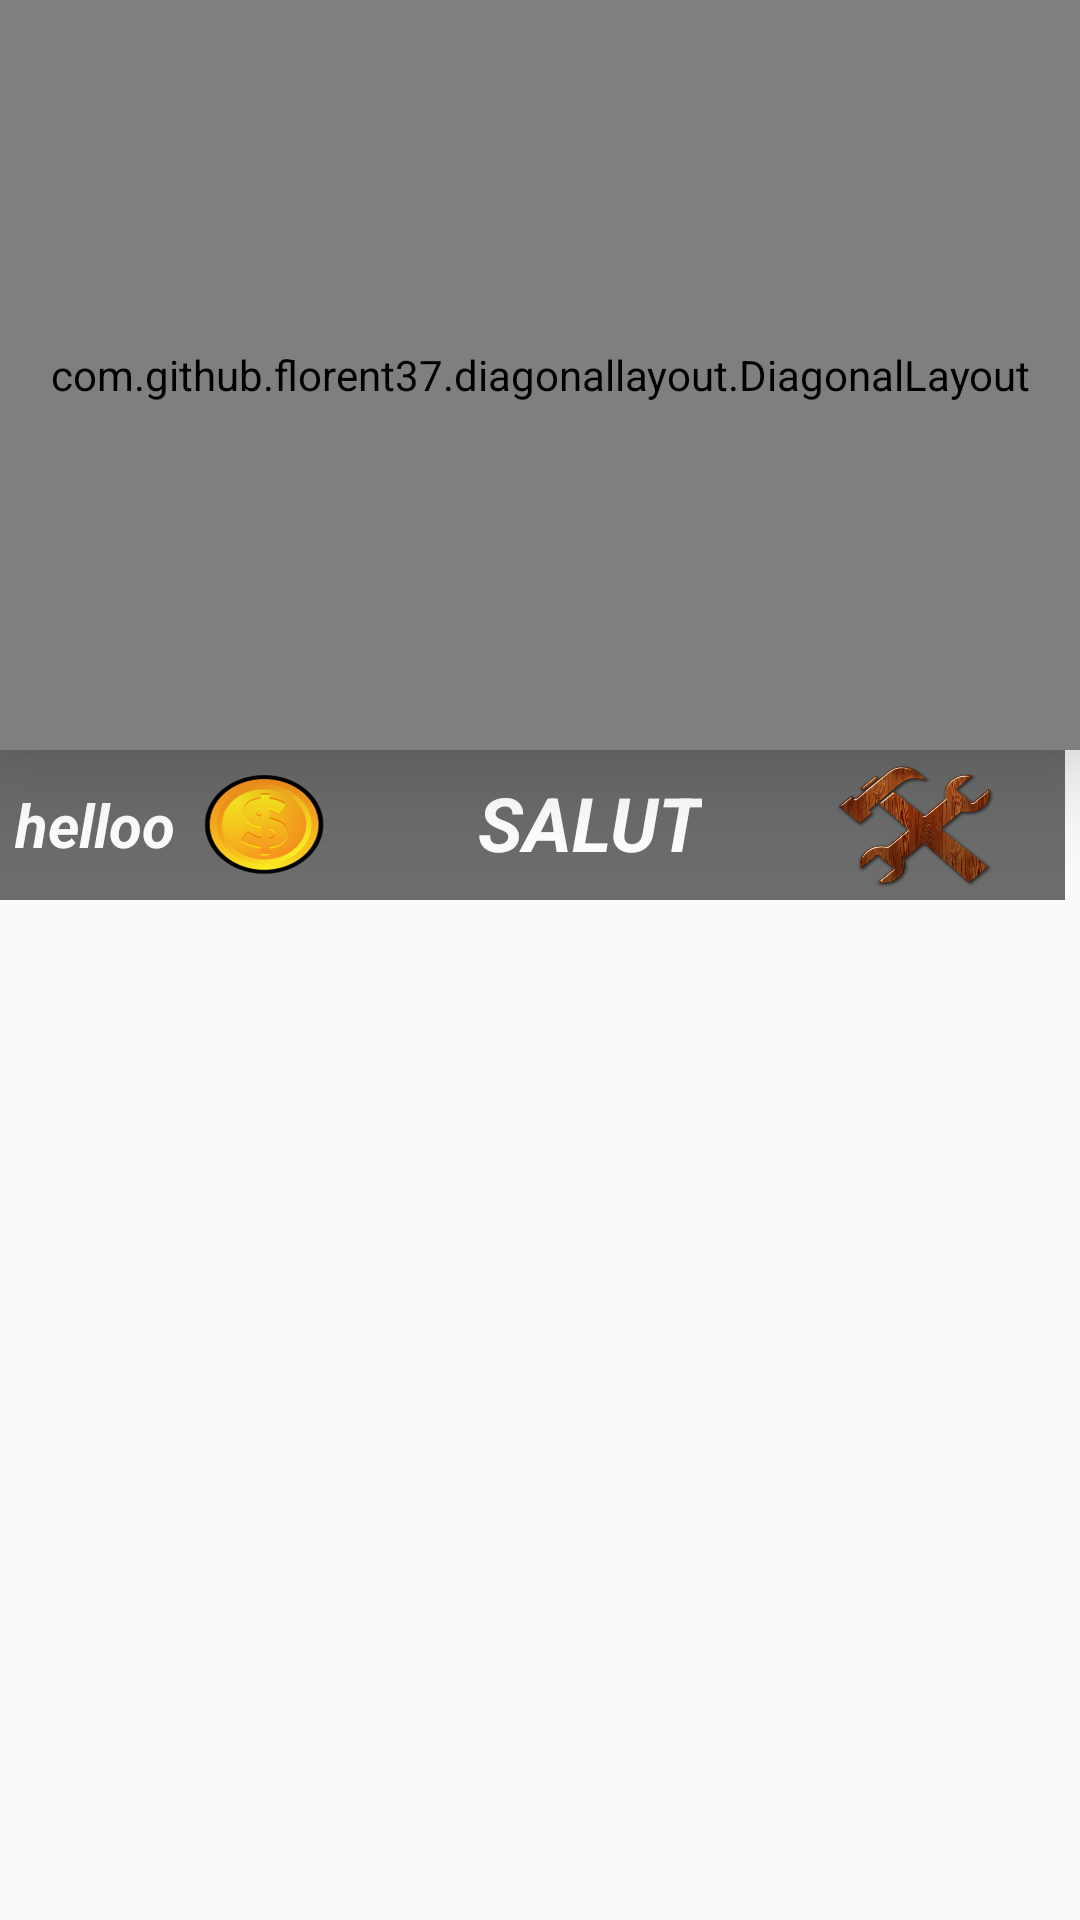

Named icons in this screenshot (1080x1920) and their bounding boxes, box(x1, y1, x2, y2):
goldentoken: box(205, 775, 324, 874)
settingcle: box(839, 766, 992, 885)
